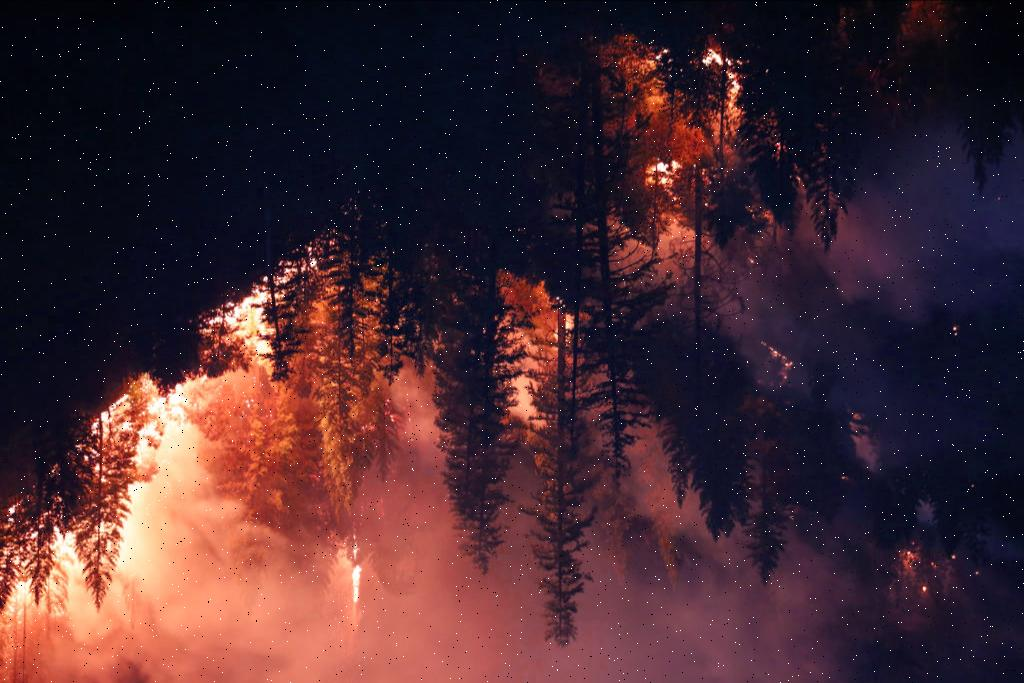fire: (0, 240, 398, 683), (602, 10, 744, 234)
